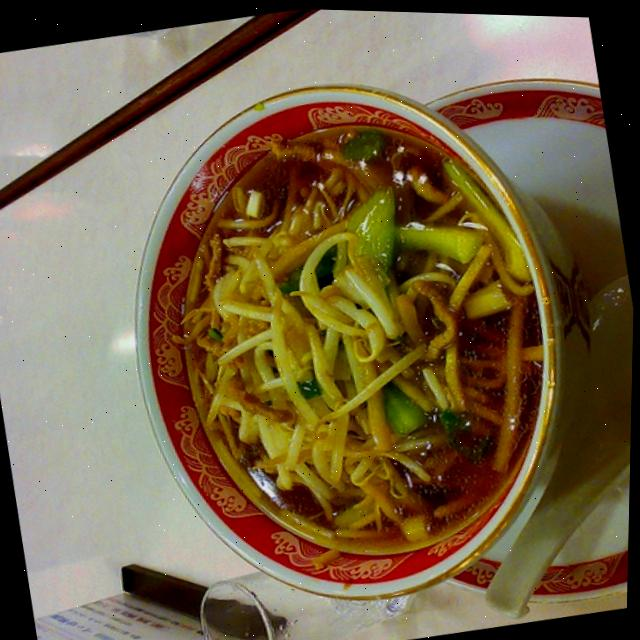面条主食: (96, 47, 613, 628)
